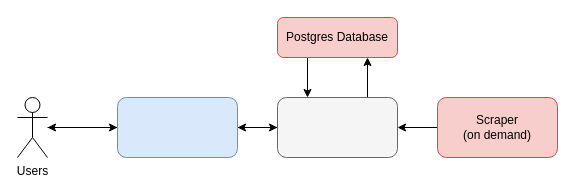
Image size: 575x196. Some labels were removed from this diagram. Each missing label, with the box of its shape:
API: (276, 96, 398, 158)
Client: (116, 96, 238, 158)
